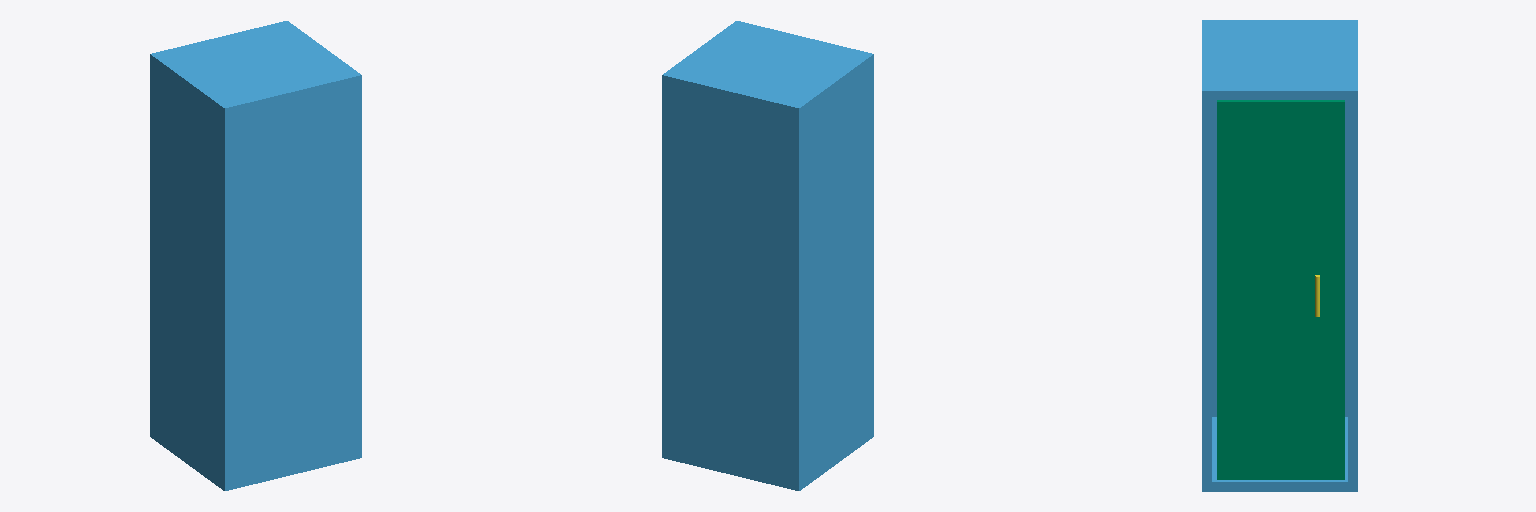
URDF robot description (my_cabinet):
<?xml version="1.0" ?>
<robot name="my_cabinet">
	<link name="world"/>
	<joint name="virtual_joint" type="fixed">
		<parent link="world"/>
		<child link="base_cabinet_link"/>
		<origin xyz="0.0 0.0 0.0" rpy="0.0 0.0 0.0"/>
	</joint>
	<link name="base_cabinet_link">
		<visual>
			<origin xyz="0.0 -0.0025 -0.39073418752839106" rpy="0.0 0.0 0.0"/>
			<geometry>
				<box size="0.3 0.2822175273028699 0.018"/>
			</geometry>
		</visual>
		<collision name="base_cabinet_link_collision_0">
			<origin xyz="0.0 -0.0025 -0.39073418752839106" rpy="0.0 0.0 0.0"/>
			<geometry>
				<box size="0.3 0.2822175273028699 0.018"/>
			</geometry>
		</collision>
		<visual>
			<origin xyz="0.0 0.12960876365143498 0.0" rpy="0.0 0.0 0.0"/>
			<geometry>
				<box size="0.3 0.018 0.7994683750567821"/>
			</geometry>
		</visual>
		<collision name="base_cabinet_link_collision_1">
			<origin xyz="0.0 0.12960876365143498 0.0" rpy="0.0 0.0 0.0"/>
			<geometry>
				<box size="0.3 0.018 0.7994683750567821"/>
			</geometry>
		</collision>
		<visual>
			<origin xyz="0.0 -0.13460876365143498 0.0" rpy="0.0 0.0 0.0"/>
			<geometry>
				<box size="0.3 0.018 0.7994683750567821"/>
			</geometry>
		</visual>
		<collision name="base_cabinet_link_collision_2">
			<origin xyz="0.0 -0.13460876365143498 0.0" rpy="0.0 0.0 0.0"/>
			<geometry>
				<box size="0.3 0.018 0.7994683750567821"/>
			</geometry>
		</collision>
		<visual>
			<origin xyz="0.0 -0.0025 0.39073418752839106" rpy="0.0 0.0 0.0"/>
			<geometry>
				<box size="0.3 0.2822175273028699 0.018"/>
			</geometry>
		</visual>
		<collision name="base_cabinet_link_collision_3">
			<origin xyz="0.0 -0.0025 0.39073418752839106" rpy="0.0 0.0 0.0"/>
			<geometry>
				<box size="0.3 0.2822175273028699 0.018"/>
			</geometry>
		</collision>
		<visual>
			<origin xyz="-0.141 -0.0025 0.0" rpy="0.0 0.0 0.0"/>
			<geometry>
				<box size="0.018 0.2822175273028699 0.7994683750567821"/>
			</geometry>
		</visual>
		<collision name="base_cabinet_link_collision_4">
			<origin xyz="-0.141 -0.0025 0.0" rpy="0.0 0.0 0.0"/>
			<geometry>
				<box size="0.018 0.2822175273028699 0.7994683750567821"/>
			</geometry>
		</collision>
		<inertial>
			<mass value="0.200000"/>
			<inertia ixx="0.011980" ixy="0.0" ixz="0.0" iyy="0.012152" iyz="0.0" izz="0.002827"/>
		</inertial>
	</link>
	<link name="door_link">
		<visual>
			<origin xyz="0.0 -0.11560876365143496 0.0"/>
			<geometry>
				<box size="0.018 0.23121752730286993 0.7534683750567821"/>
			</geometry>
		</visual>
		<collision name="door_link_collision">
			<origin xyz="0.0 -0.11560876365143496 0.0"/>
			<geometry>
				<box size="0.018 0.23121752730286993 0.7534683750567821"/>
			</geometry>
		</collision>
		<inertial>
			<mass value="0.200000"/>
			<inertia ixx="0.010353" ixy="0.0" ixz="0.0" iyy="0.009467" iyz="0.0" izz="0.000896"/>
		</inertial>
	</link>
	<joint name="door_joint" type="revolute">
		<origin xyz="0.141 -0.11560876365143496 0.0" rpy="0.000000 -0.000000 3.141593"/>
		<axis xyz="0 0 1"/>
		<parent link="base_cabinet_link"/>
		<child link="door_link"/>
		<limit effort="50" lower="-1.658062789394613" upper="0" velocity="10"/>
		<dynamics friction="3.5" damping="3.5"/>
	</joint>
	<link name="handle_link">
		<visual>
			<origin xyz="0.0 0.0 0.0" rpy="0.0 0.0 0.0"/>
			<geometry>
				<cylinder length="0.08" radius="0.005"/>
			</geometry>
		</visual>
		<collision name="handle_link_collision_0">
			<origin xyz="0.0 0.0 0.0" rpy="0.0 0.0 0.0"/>
			<geometry>
				<cylinder length="0.08" radius="0.005"/>
			</geometry>
		</collision>
		<visual>
			<origin xyz="-0.01 0.0 0.02" rpy="0.0 1.5707963267948966 0.0"/>
			<geometry>
				<cylinder length="0.02" radius="0.003"/>
			</geometry>
		</visual>
		<collision name="handle_link_collision_1">
			<origin xyz="-0.01 0.0 0.02" rpy="0.0 1.5707963267948966 0.0"/>
			<geometry>
				<cylinder length="0.01" radius="0.003"/>
			</geometry>
		</collision>
		<visual>
			<origin xyz="-0.01 0.0 -0.02" rpy="0.0 1.5707963267948966 0.0"/>
			<geometry>
				<cylinder length="0.02" radius="0.003"/>
			</geometry>
		</visual>
		<collision name="handle_link_collision_2">
			<origin xyz="-0.01 0.0 -0.02" rpy="0.0 1.5707963267948966 0.0"/>
			<geometry>
				<cylinder length="0.02" radius="0.003"/>
			</geometry>
		</collision>
		<inertial>
			<mass value="0.050000"/>
			<inertia ixx="0.000027" ixy="0.0" ixz="0.0" iyy="0.000029" iyz="0.0" izz="0.000003"/>
		</inertial>
	</link>
	<joint name="handle_joint" type="fixed">
		<origin xyz="-0.028999999999999998 -0.18121752730286994 0.0" rpy="0.000000 -0.000000 3.141593"/>
		<parent link="door_link"/>
		<child link="handle_link"/>
	</joint>
	<gazebo reference="base_cabinet_link">
		<sensor name="main_sensor" type="contact">
			<selfCollide>true</selfCollide>
			<alwaysOn>true</alwaysOn>
			<updateRate>5.0</updateRate>
			<material>Gazebo/Red</material>
			<contact>
				<collision>base_cabinet_link_collision_0_collision</collision>
				<collision>base_cabinet_link_collision_1_collision</collision>
				<collision>base_cabinet_link_collision_2_collision</collision>
				<collision>base_cabinet_link_collision_3_collision</collision>
				<collision>base_cabinet_link_collision_4_collision</collision>
			</contact>
			<plugin name="gazebo_ros_bumper_controller" filename="libgazebo_ros_bumper.so">
				<bumperTopicName>/contact</bumperTopicName>
				<frameName>world</frameName>
			</plugin>
		</sensor>
	</gazebo>
	<gazebo reference="door_link">
		<sensor name="main_sensor" type="contact">
			<selfCollide>true</selfCollide>
			<alwaysOn>true</alwaysOn>
			<updateRate>5.0</updateRate>
			<material>Gazebo/Red</material>
			<contact>
				<collision>door_link_collision_collision</collision>
			</contact>
			<plugin name="gazebo_ros_bumper_controller" filename="libgazebo_ros_bumper.so">
				<bumperTopicName>/contact_door</bumperTopicName>
				<frameName>contact_door</frameName>
			</plugin>
		</sensor>
	</gazebo>
	<gazebo reference="door_link">
		<mu>3.0</mu>
		<mu2>3.0</mu2>
		<kp>10000000</kp>
		<kd>100</kd>
	</gazebo>
</robot>

--- Render facts (derived) ---
The picture shows the robot from 3 angles, left to right: view 1: azimuth 30°, elevation 25°; view 2: azimuth 150°, elevation 25°; view 3: azimuth 270°, elevation 25°; orthographic projection.
Robot: my_cabinet — 4 links, 3 joints (1 revolute, 2 fixed); root link world; default pose: all joints at 0.
Links seen in each view (by area): view 1: base_cabinet_link; view 2: base_cabinet_link; view 3: door_link, base_cabinet_link.
Boxes of the visible links, x1=… form: base_cabinet_link: x1=150, y1=21, x2=361, y2=490; base_cabinet_link: x1=662, y1=21, x2=873, y2=490; door_link: x1=1217, y1=100, x2=1344, y2=479; base_cabinet_link: x1=1202, y1=20, x2=1357, y2=491.
Bounding box of the posed robot: 0.325 × 0.2822 × 0.7995 m (x, y, z).
Geometry: primitives only (box / cylinder / sphere), no mesh files.
